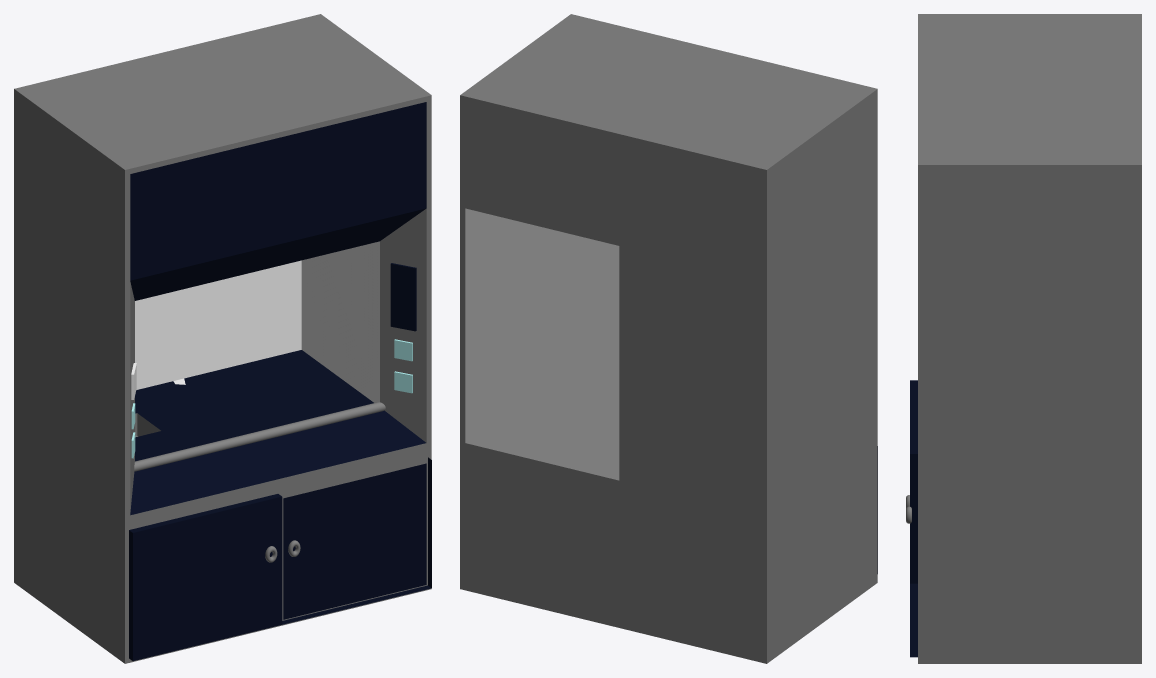
The model's file is 通风橱2.obj.
3 views of the same model, side by side, from view 1: azimuth 30°, elevation 25°; view 2: azimuth 150°, elevation 25°; view 3: azimuth 270°, elevation 25° (orthographic).
Visible parts, largest first — view 1: guizi:guizi guizi:polySurface9, guizi:guizi guizi:polySurface10 guizi:group1, guizi:guizi guizi:polySurface10 guizi:group2, guizi:guizi guizi:polySurface12, guizi:guizi guizi:polySurface5; view 2: guizi:guizi guizi:polySurface9; view 3: guizi:guizi guizi:polySurface9, guizi:guizi guizi:polySurface10 guizi:group2, guizi:guizi guizi:polySurface10 guizi:group1.
Boxes of the visible parts, box(x1,y1,x2,y2) form: guizi:guizi guizi:polySurface9: box(14, 14, 431, 663); guizi:guizi guizi:polySurface10 guizi:group1: box(129, 494, 282, 660); guizi:guizi guizi:polySurface10 guizi:group2: box(282, 457, 431, 624); guizi:guizi guizi:polySurface12: box(134, 402, 385, 471); guizi:guizi guizi:polySurface5: box(390, 263, 416, 331); guizi:guizi guizi:polySurface9: box(460, 14, 877, 663); guizi:guizi guizi:polySurface9: box(918, 14, 1141, 663); guizi:guizi guizi:polySurface10 guizi:group2: box(910, 454, 917, 657); guizi:guizi guizi:polySurface10 guizi:group1: box(910, 380, 917, 454).
Bounding box in the file's own units: 17.93 × 27.59 × 11.82.
